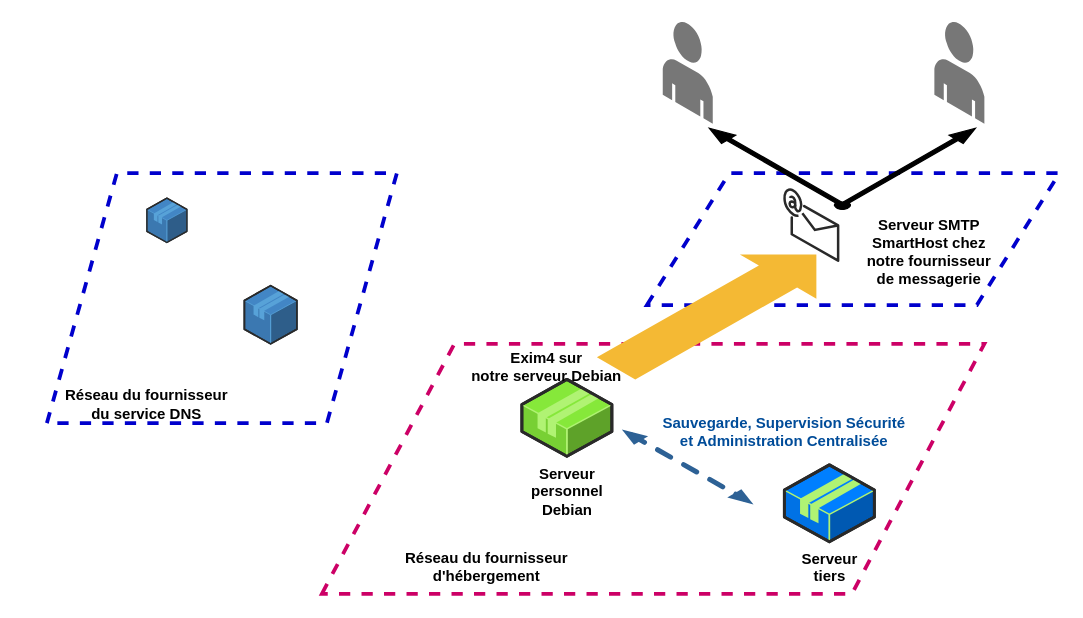
This 1083x618 diagram has some shape labels left out. Here are the shapes that lost their labels. From the top down, the centre of each, then its label:
At point (166, 219): "Service DNS primaire".
At point (270, 314): "Service DNS secondaire".
